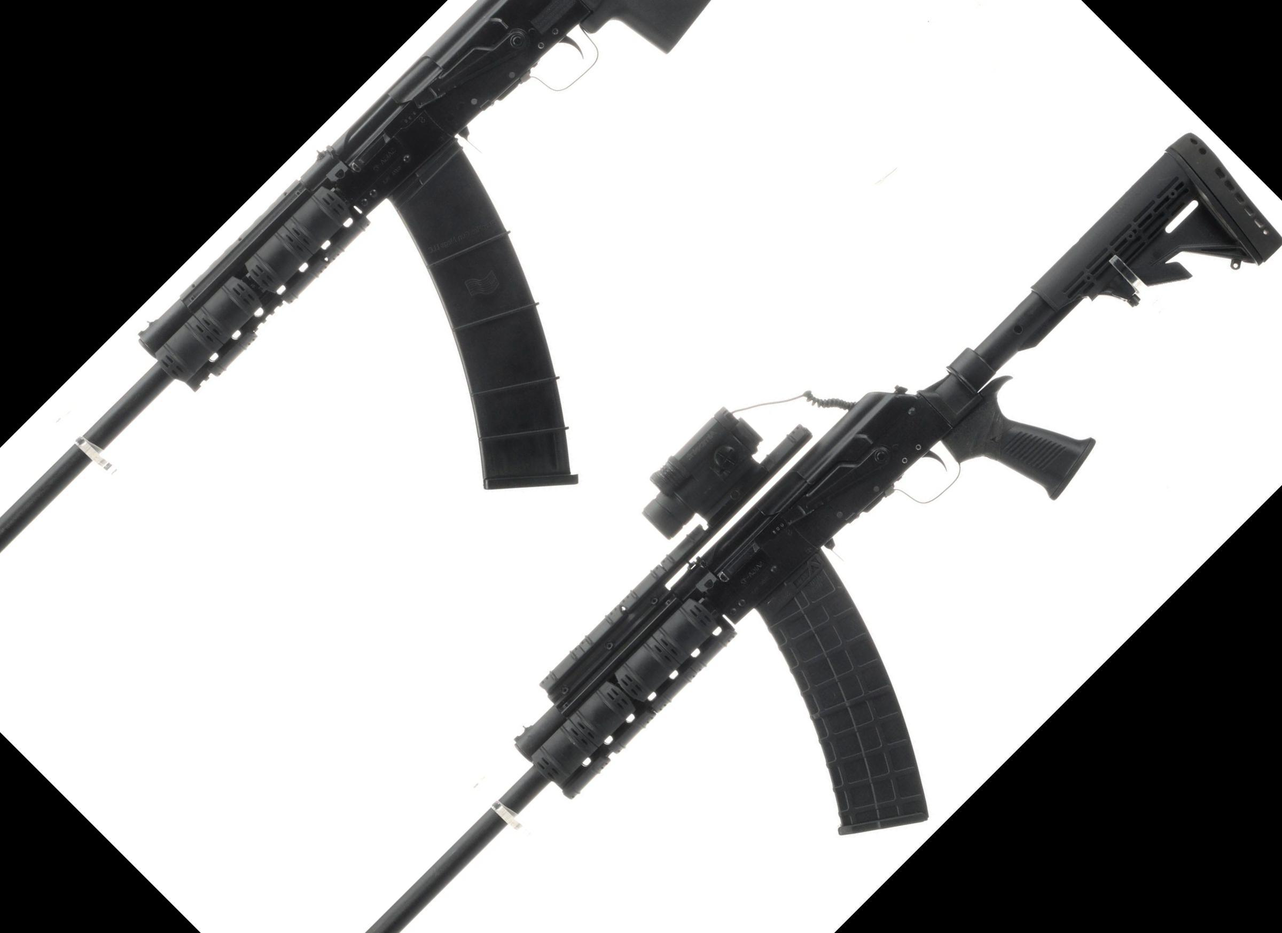larga: (362, 128, 1282, 933), (0, 0, 708, 552)
